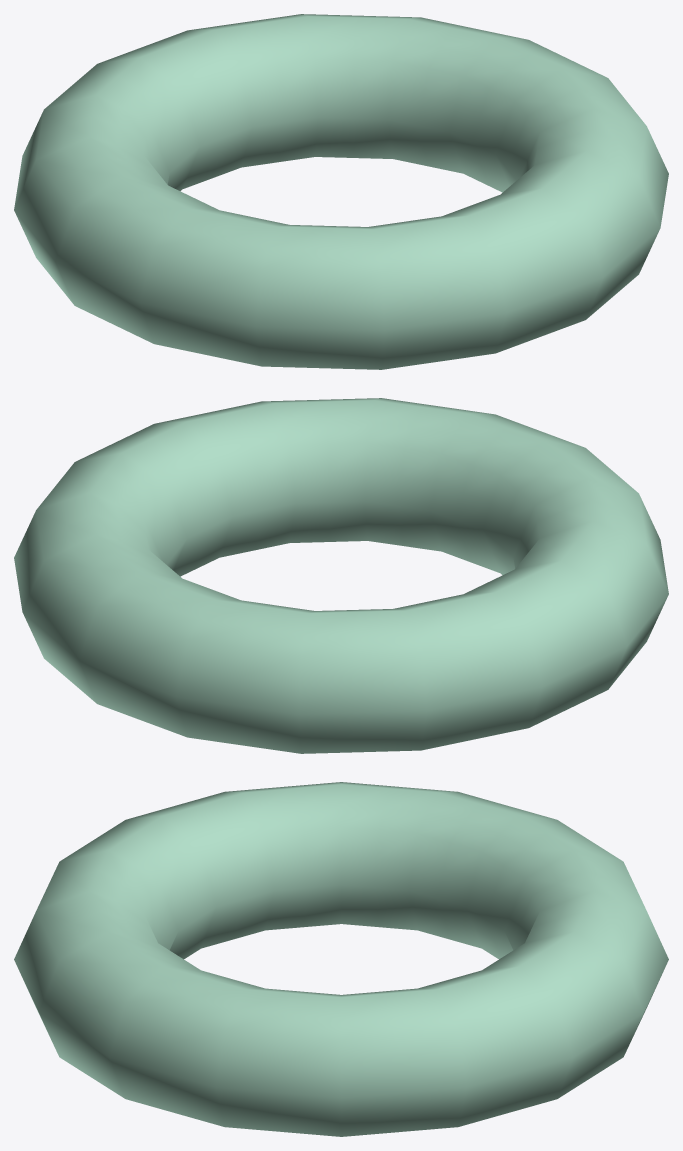
Rendered from SuperToroid.gltf.
3 renders of one model, top to bottom at view 1: azimuth 30°, elevation 25°; view 2: azimuth 150°, elevation 25°; view 3: azimuth 270°, elevation 25°, orthographic.
Visible parts, largest first — view 1: SuperToroid; view 2: SuperToroid; view 3: SuperToroid.
Boxes of the visible parts, x1=… form: SuperToroid: x1=14, y1=14, x2=668, y2=369; SuperToroid: x1=14, y1=398, x2=668, y2=753; SuperToroid: x1=14, y1=782, x2=668, y2=1136.
Bounding box in the file's own units: 2.6 × 0.6 × 2.6.
